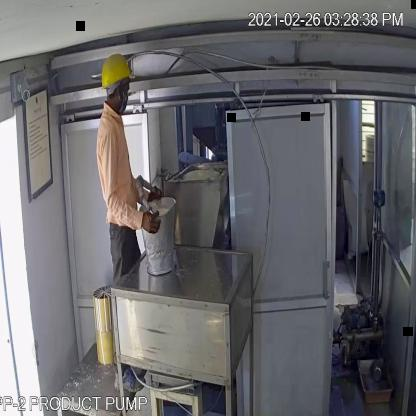helmet: (96, 50, 138, 95)
